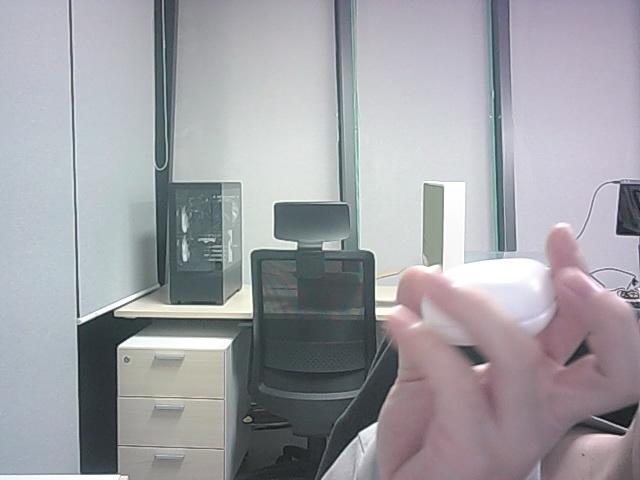case: (444, 258, 555, 335), (422, 299, 476, 346)
